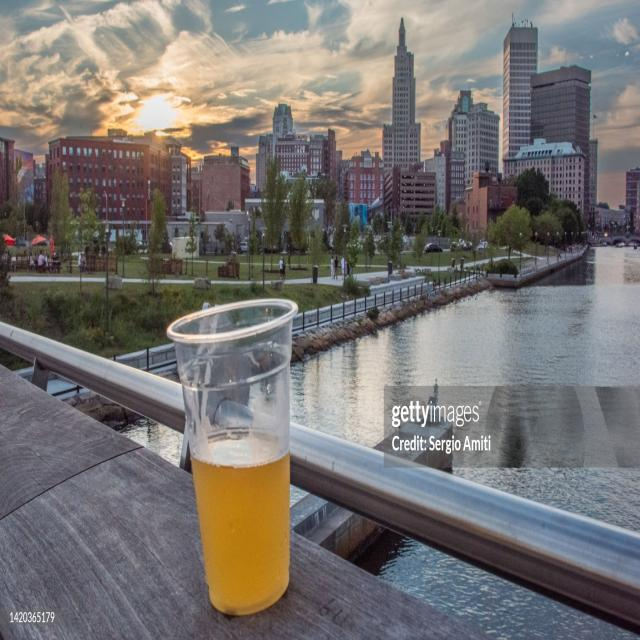cup: (169, 293, 297, 614)
